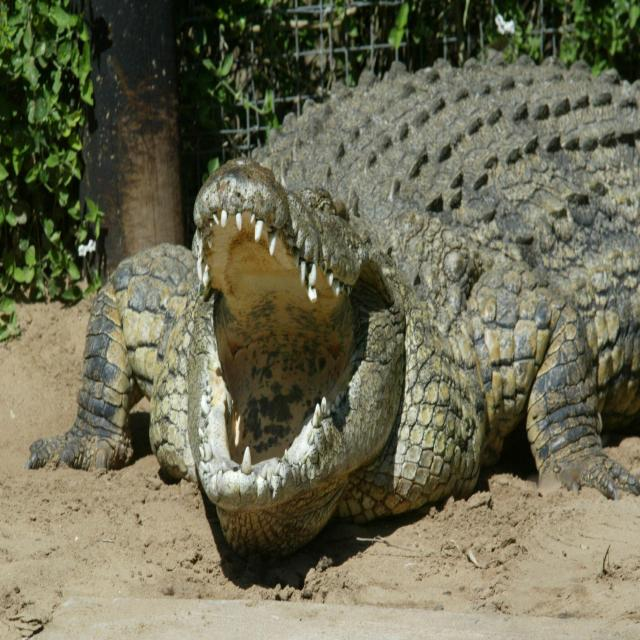crocodile: (20, 60, 640, 550)
